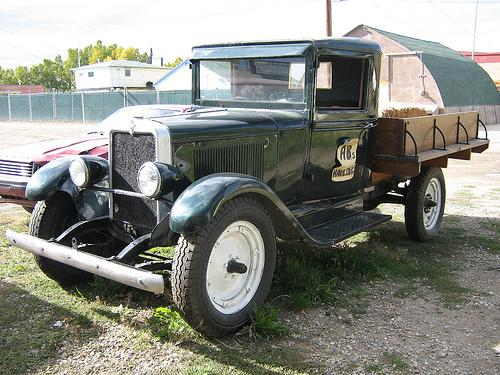truck: (5, 36, 490, 340)
